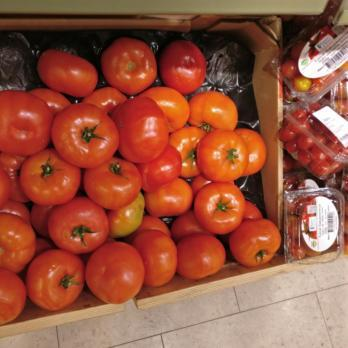Tomato: (0, 114, 258, 284), (32, 46, 104, 102), (103, 34, 157, 98), (164, 38, 209, 94)
